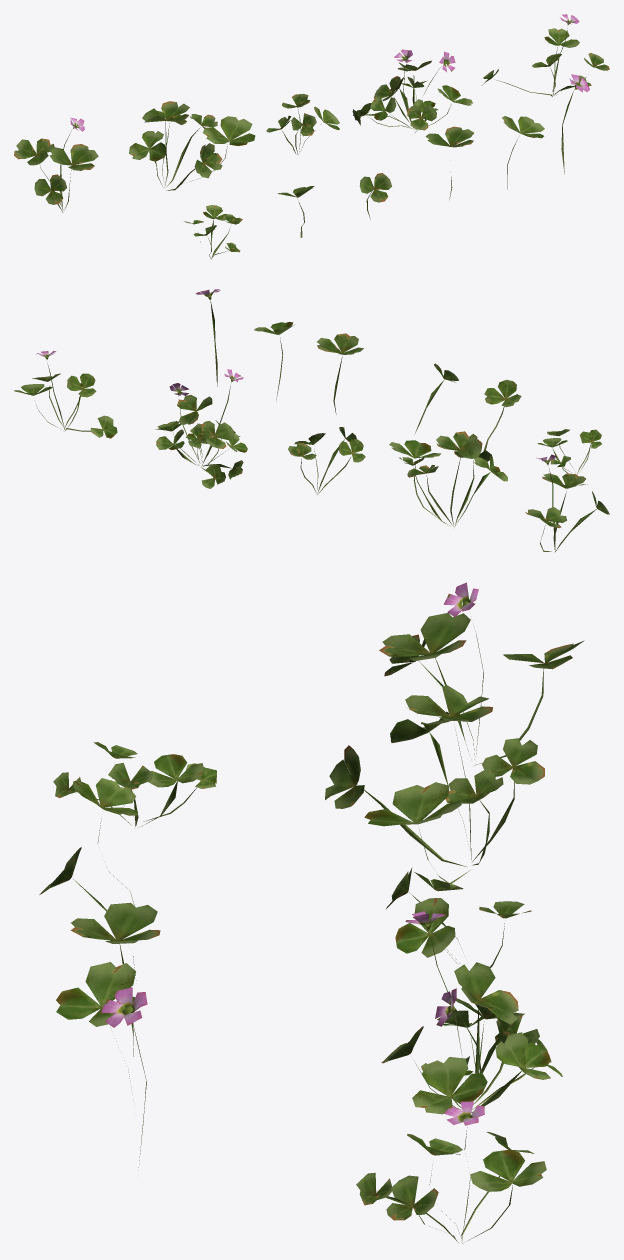
The model's file is ph-shrub_sorrel_01.glb.
3 renders of one model, top to bottom at view 1: azimuth 30°, elevation 25°; view 2: azimuth 150°, elevation 25°; view 3: azimuth 270°, elevation 25°, orthographic. The views are drawn at different scales.
Visible parts, largest first — view 1: shrub_sorrel_01_k; view 2: shrub_sorrel_01_k; view 3: shrub_sorrel_01_k.
Boxes of the visible parts, box(x1,y1,x2,y2) form: shrub_sorrel_01_k: box(14, 14, 609, 259); shrub_sorrel_01_k: box(14, 289, 609, 551); shrub_sorrel_01_k: box(39, 582, 584, 1243).
Bounding box in the file's own units: 0.3521 × 0.058 × 0.1464.
Materials: 1 (1 with a texture image).
